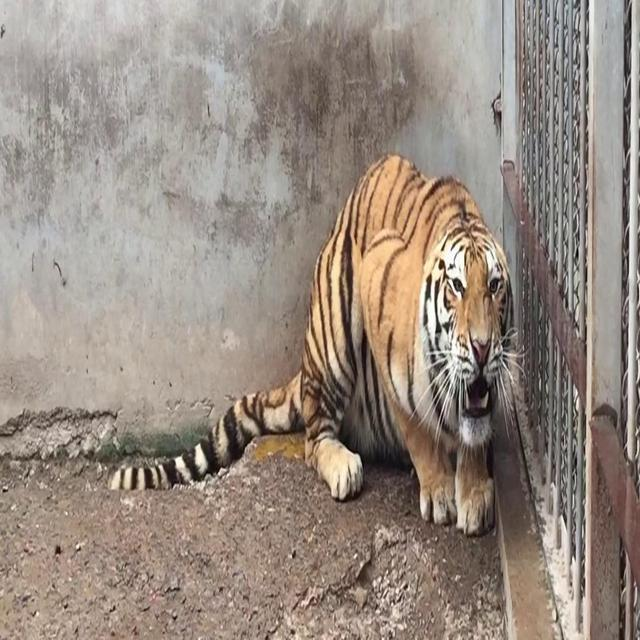tiger: (106, 151, 526, 537)
